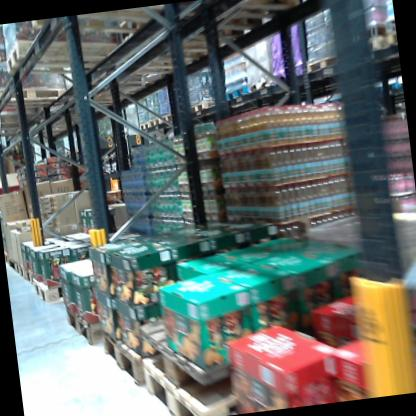pallet: (132, 295, 288, 416), (141, 346, 289, 416), (0, 20, 134, 87), (93, 318, 162, 393), (54, 298, 98, 355), (28, 270, 83, 311), (0, 81, 64, 115), (305, 49, 348, 79), (242, 67, 278, 99), (346, 32, 383, 61), (219, 81, 249, 114), (181, 98, 215, 122), (271, 62, 303, 87), (138, 114, 163, 131), (11, 256, 26, 284), (25, 264, 39, 292), (160, 114, 178, 127)
